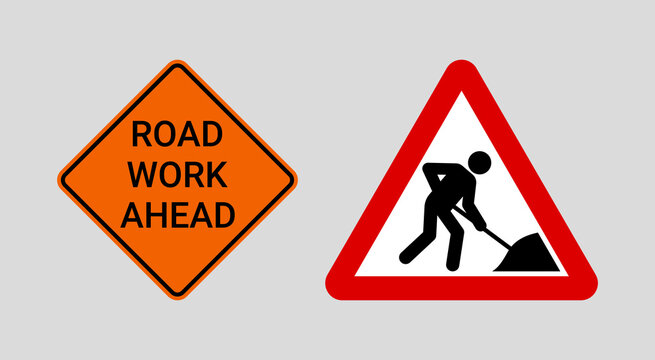Road_workahead: (323, 60, 607, 307), (44, 58, 308, 302)
